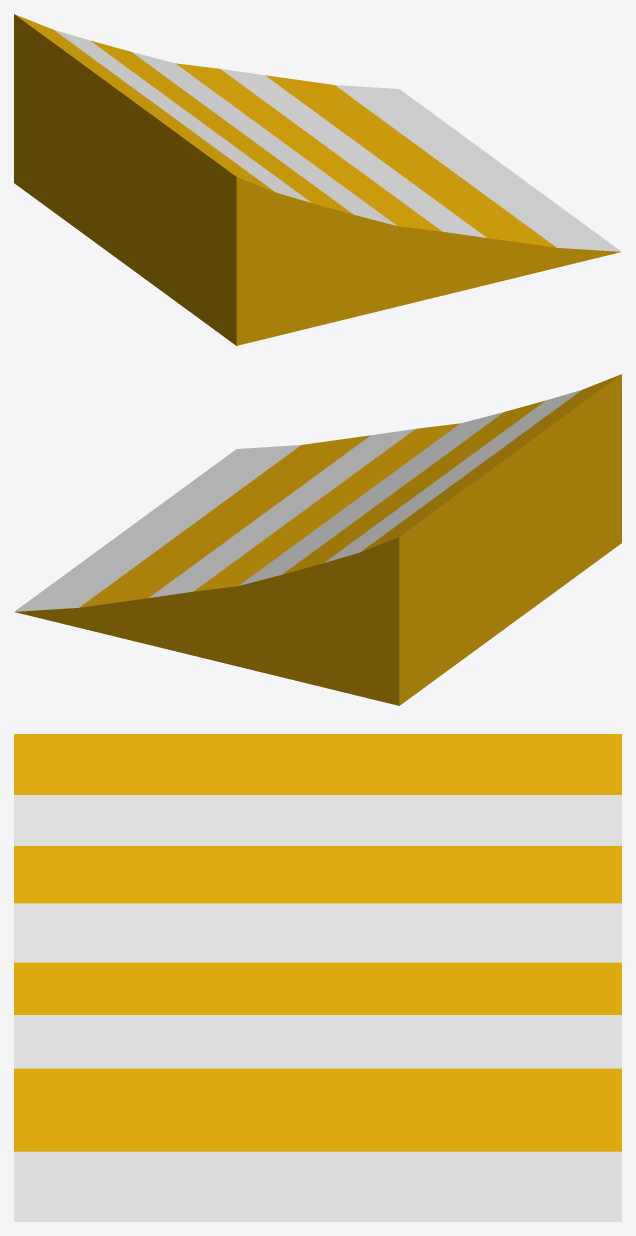
Rendered from ramp.dae.
3 renders of one model, top to bottom at view 1: azimuth 30°, elevation 25°; view 2: azimuth 150°, elevation 25°; view 3: azimuth 270°, elevation 25°, orthographic. The views are drawn at different scales.
Visible parts, largest first — view 1: Ramp; view 2: Ramp; view 3: Ramp.
Boxes of the visible parts, x1,y1,x2,y2 form: Ramp: (14, 14, 621, 345); Ramp: (14, 374, 621, 705); Ramp: (14, 734, 621, 1221).
Bounding box in the file's own units: 2 × 2 × 0.8384.
